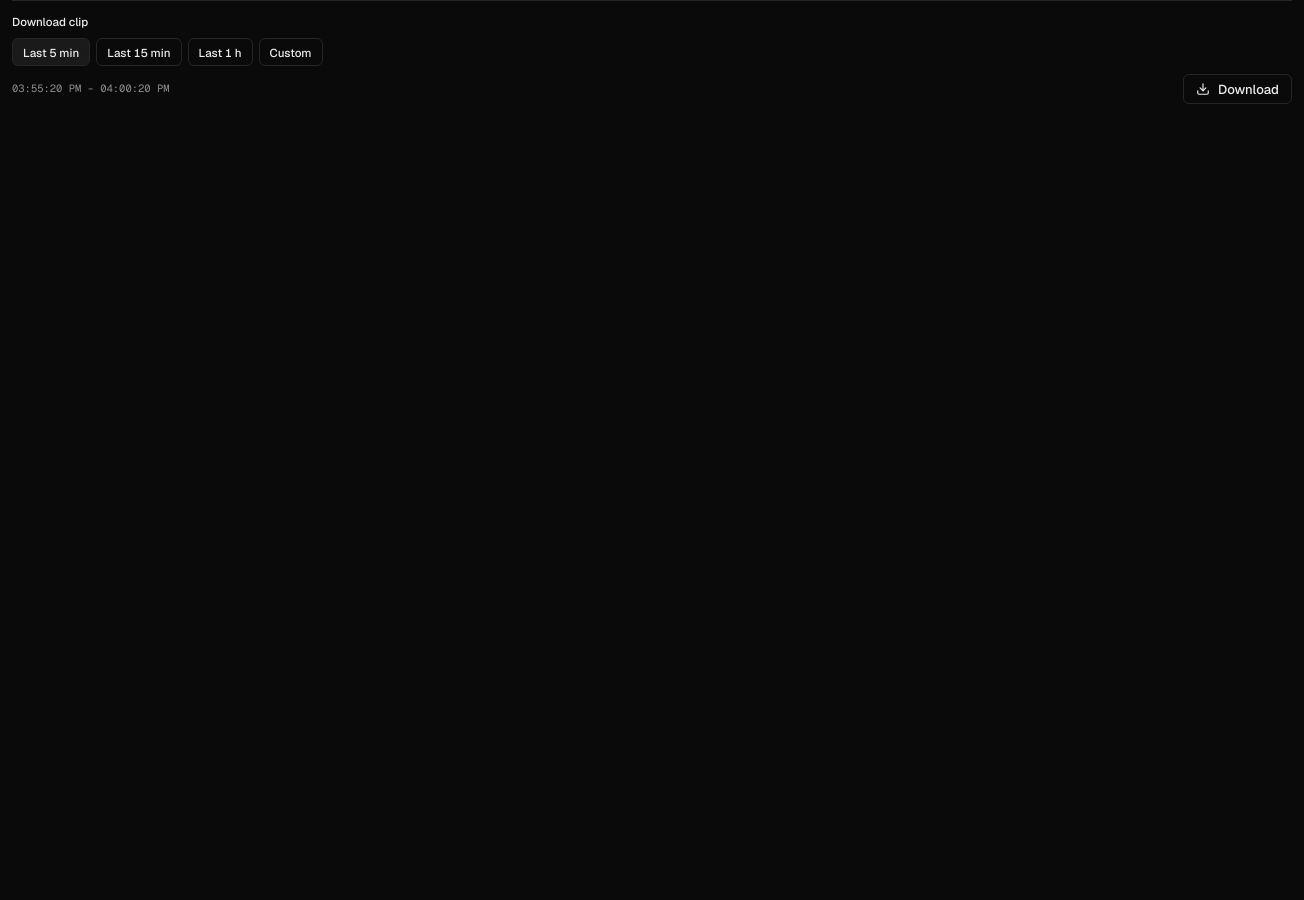
Scenario: failures › says there are no recordings in the range on a 404
Click the button "Download": (1238, 89) [1183,74,1292,104]
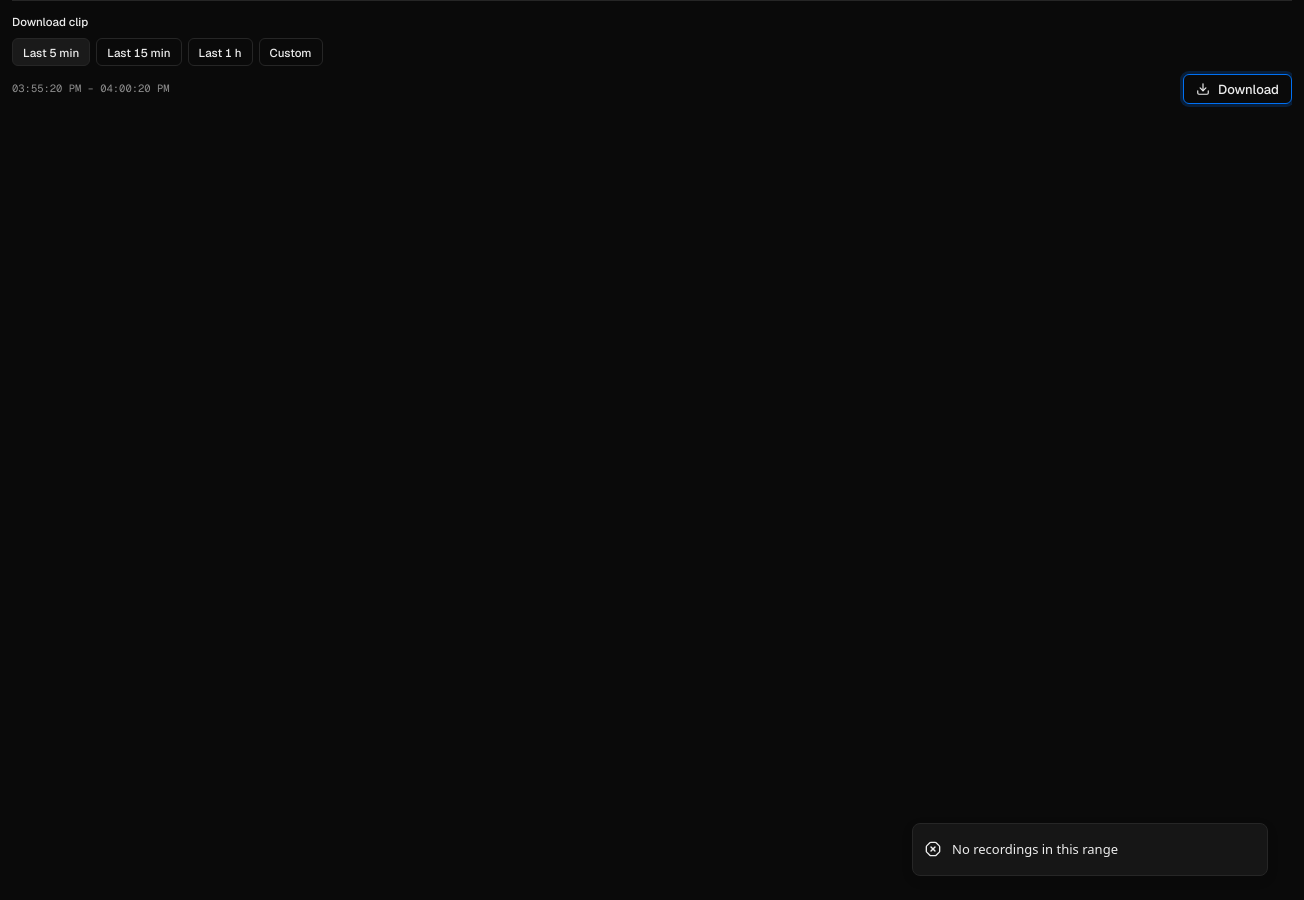
expect the text "No recordings in this range" is shown: met, box [952,840,1118,859]
